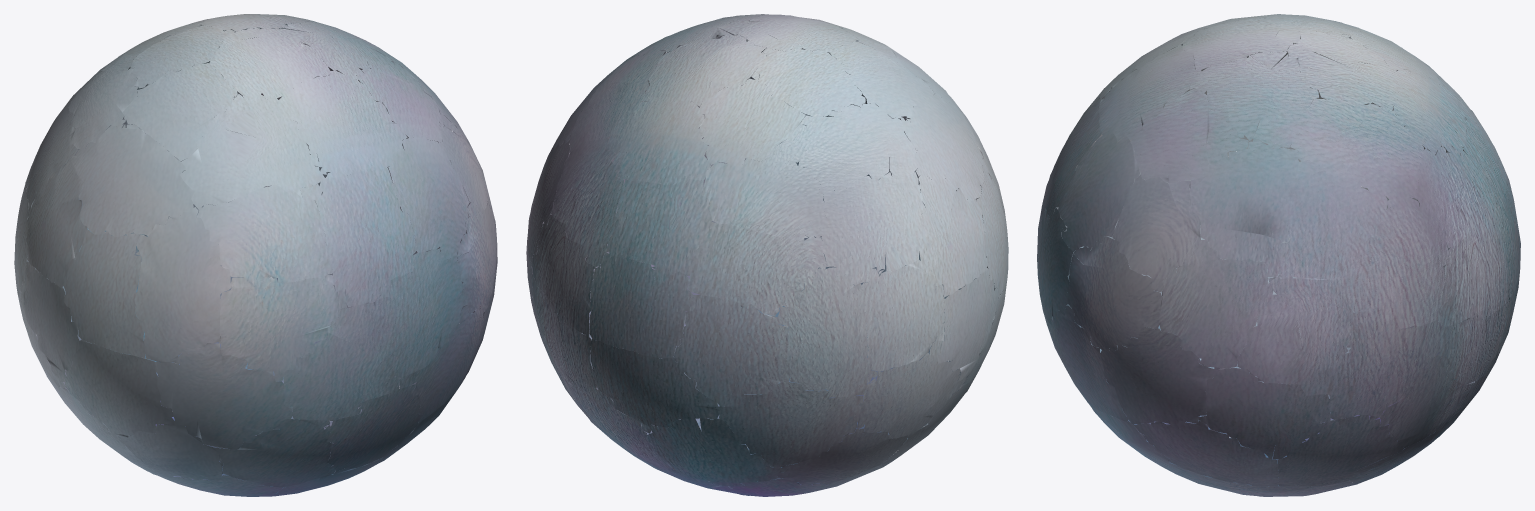
The model's file is Frosted Blue Sphere.glb.
3 views of the same model, side by side, from view 1: azimuth 30°, elevation 25°; view 2: azimuth 150°, elevation 25°; view 3: azimuth 270°, elevation 25° (orthographic).
Visible parts, largest first — view 1: texture_mapping; view 2: texture_mapping; view 3: texture_mapping.
Boxes of the visible parts, left/top/right/bottom form: texture_mapping: left=14, top=14, right=497, bottom=496; texture_mapping: left=526, top=14, right=1008, bottom=496; texture_mapping: left=1037, top=14, right=1520, bottom=496.
Size of the model in its own units: 0.9996 by 1 by 1.
1 material, 1 textured.
